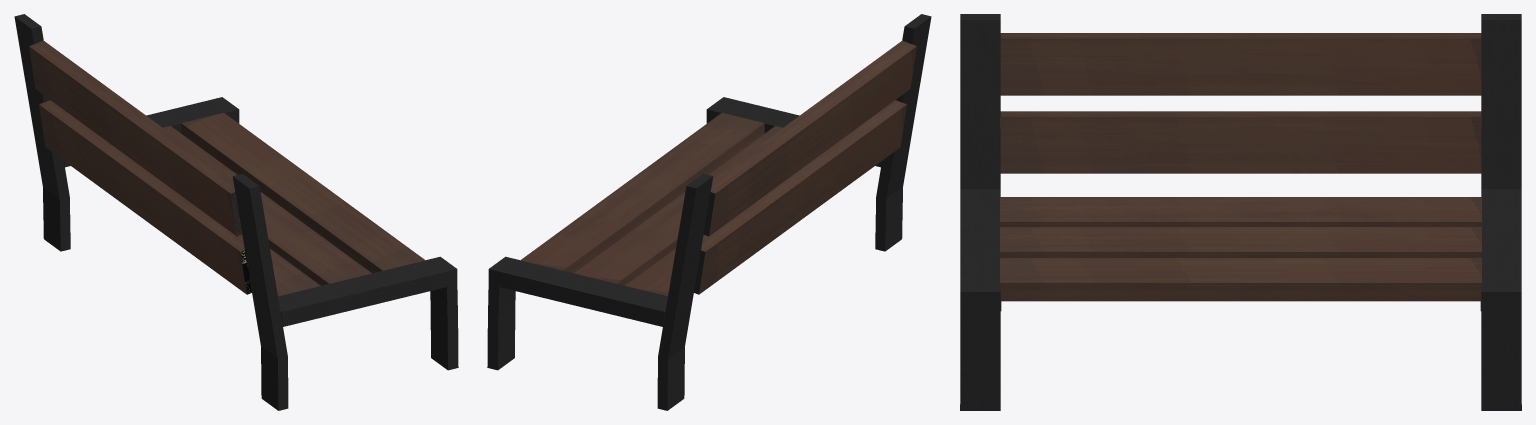
File: bench.glb
3 renders of one model, left to right at view 1: azimuth 30°, elevation 25°; view 2: azimuth 150°, elevation 25°; view 3: azimuth 270°, elevation 25°, orthographic. The views are drawn at different scales.
Parts seen in each view (by area): view 1: Bench.col; view 2: Bench.col; view 3: Bench.col.
Part boxes in pixels (x1,y1,x2,y2): Bench.col: [14, 14, 458, 410]; Bench.col: [487, 14, 931, 410]; Bench.col: [960, 14, 1521, 410].
Bounding box in the file's own units: 1.45 × 1.51 × 2.8.
Materials: 1 (1 with a texture image).
